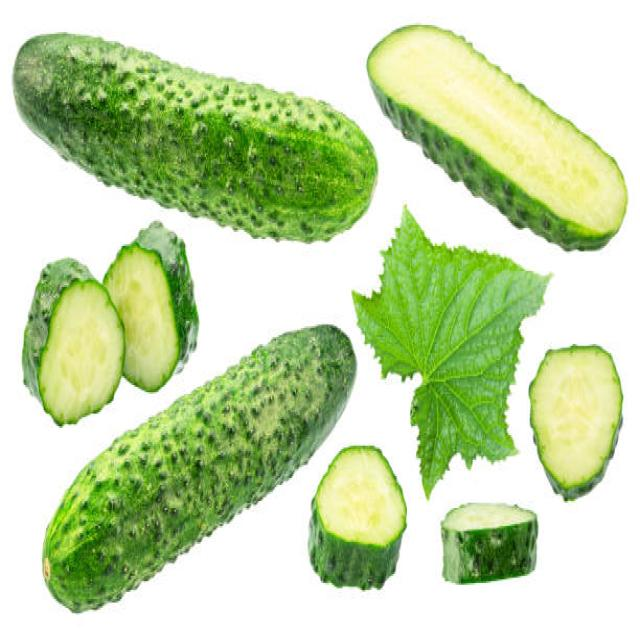cucumber: (42, 324, 356, 605), (13, 33, 377, 245)
